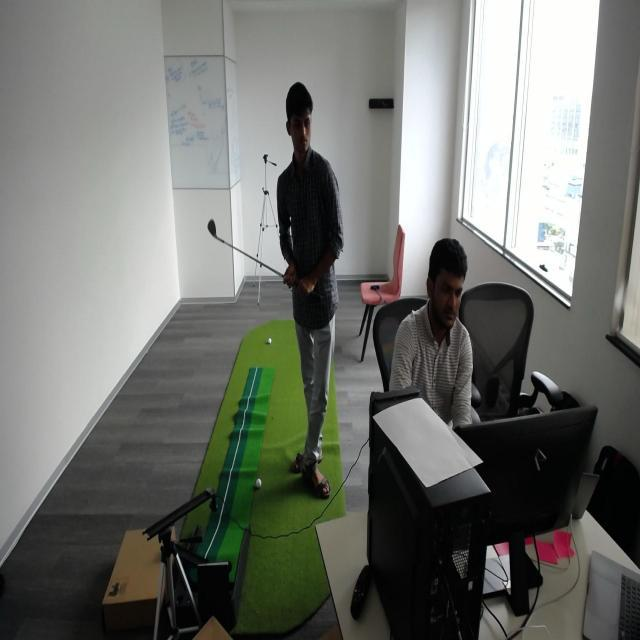ClubHead: (194, 212, 232, 253)
GolfBall: (253, 473, 264, 495), (264, 333, 274, 349)
